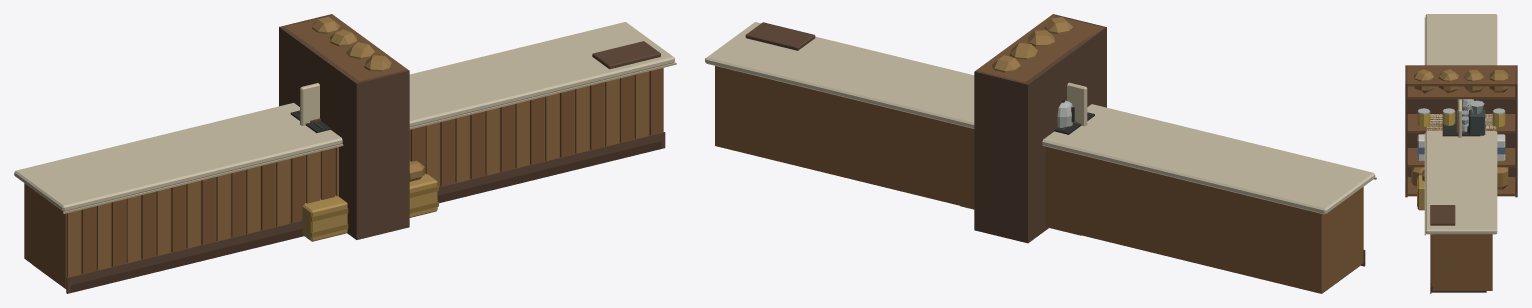
Rendered from fixtures.glb.
The picture shows the model from 3 angles, left to right: view 1: azimuth 30°, elevation 25°; view 2: azimuth 150°, elevation 25°; view 3: azimuth 270°, elevation 25°; orthographic projection. The views are drawn at different scales.
Parts seen in each view (by area): view 1: bar_counter, pantry, expansion; view 2: bar_counter, pantry, expansion, bar_station; view 3: bar_counter, pantry, bar_station, expansion.
Boxes of the visible parts, x1=… form: bar_counter: x1=14, y1=22, x2=676, y2=293; pantry: x1=279, y1=14, x2=409, y2=239; expansion: x1=300, y1=83, x2=438, y2=241; bar_counter: x1=705, y1=22, x2=1376, y2=293; pantry: x1=974, y1=14, x2=1106, y2=243; expansion: x1=1067, y1=82, x2=1087, y2=126; bar_station: x1=1054, y1=99, x2=1094, y2=134; bar_counter: x1=1424, y1=14, x2=1497, y2=293; pantry: x1=1405, y1=65, x2=1517, y2=197; bar_station: x1=1442, y1=99, x2=1485, y2=136; expansion: x1=1417, y1=99, x2=1464, y2=210.
Bounding box in the file's own units: 8.2 × 2.11 × 1.8.
